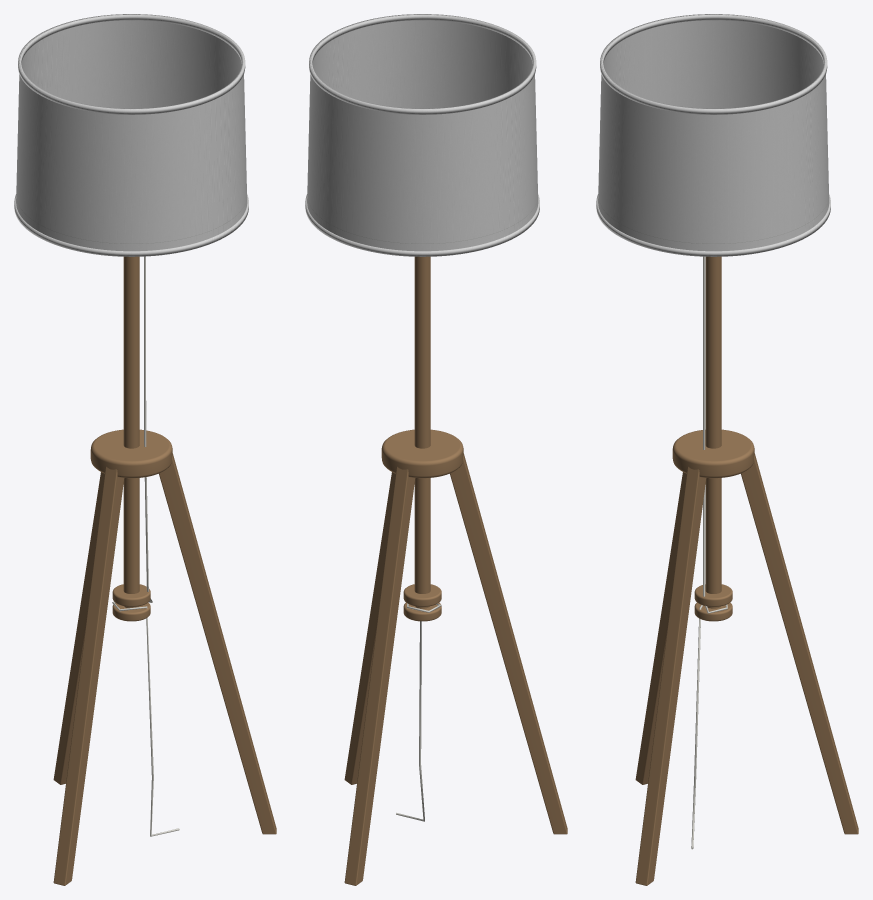
Rendered from floor-lamp-tripod.glb.
The picture shows the model from 3 angles, left to right: view 1: azimuth 30°, elevation 25°; view 2: azimuth 150°, elevation 25°; view 3: azimuth 270°, elevation 25°; orthographic projection.
Parts seen in each view (by area): view 1: Houseit floor-lamp-tripod; view 2: Houseit floor-lamp-tripod; view 3: Houseit floor-lamp-tripod.
Part boxes in pixels (x1,y1,x2,y2): Houseit floor-lamp-tripod: (14, 14, 276, 885); Houseit floor-lamp-tripod: (305, 14, 567, 885); Houseit floor-lamp-tripod: (596, 14, 858, 885).
Bounding box in the file's own units: 0.4844 × 1.6 × 0.494.
5 materials, 1 textured.
